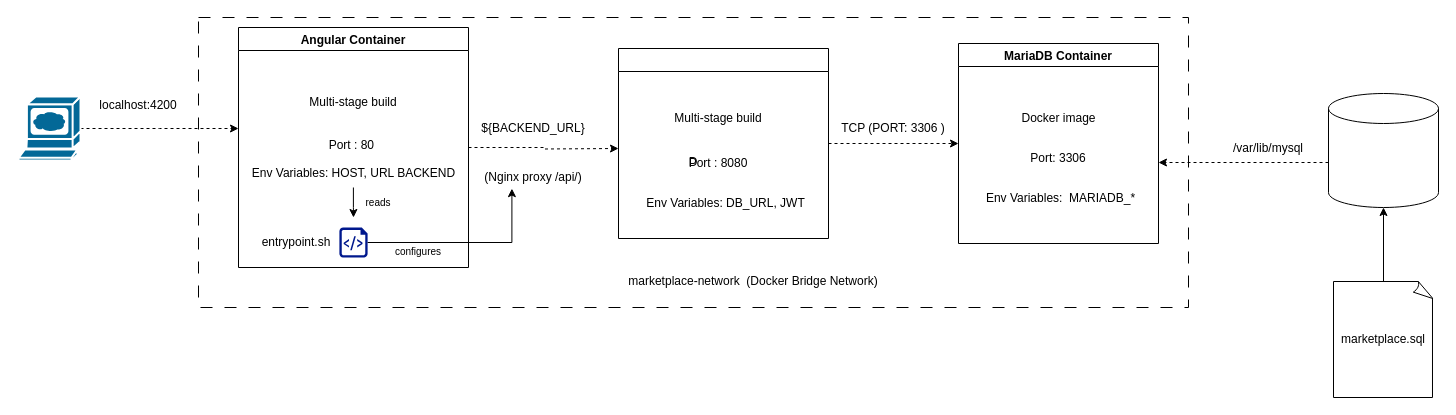
The diagram is 1456 pixels wide and 415 high, and some of its shapes have lost their labels. Here are the shapes that lost their labels. From the top down, the box of each, then its label:
(618, 48, 828, 238): Springboot Container
(1328, 92, 1438, 208): db_data volume
